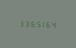five: (35, 19, 40, 28)
four: (53, 20, 58, 28)
one: (41, 20, 46, 28)
six: (29, 19, 34, 27), (47, 20, 52, 28)
three: (17, 19, 22, 27), (23, 19, 28, 27)
